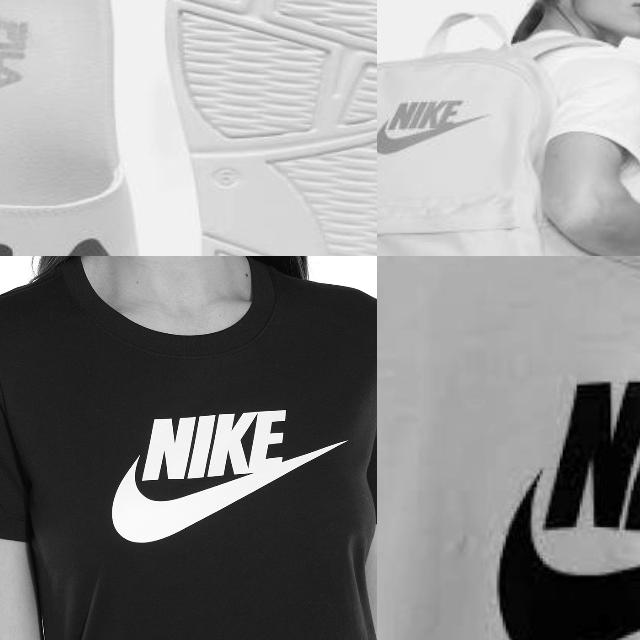FILA_original: (0, 217, 133, 256)
NIKE_original: (84, 380, 372, 582), (481, 308, 640, 640), (377, 90, 497, 157)
